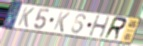5: (33, 8, 52, 30)
6: (70, 13, 87, 35)
H: (88, 15, 112, 39)
K: (51, 11, 72, 34), (16, 6, 36, 29)
R: (102, 16, 128, 41)
